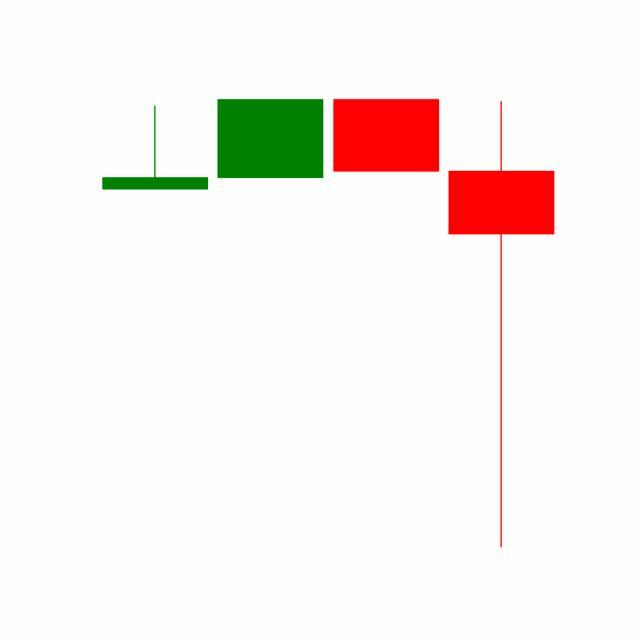Marubozu: (329, 99, 445, 173)
